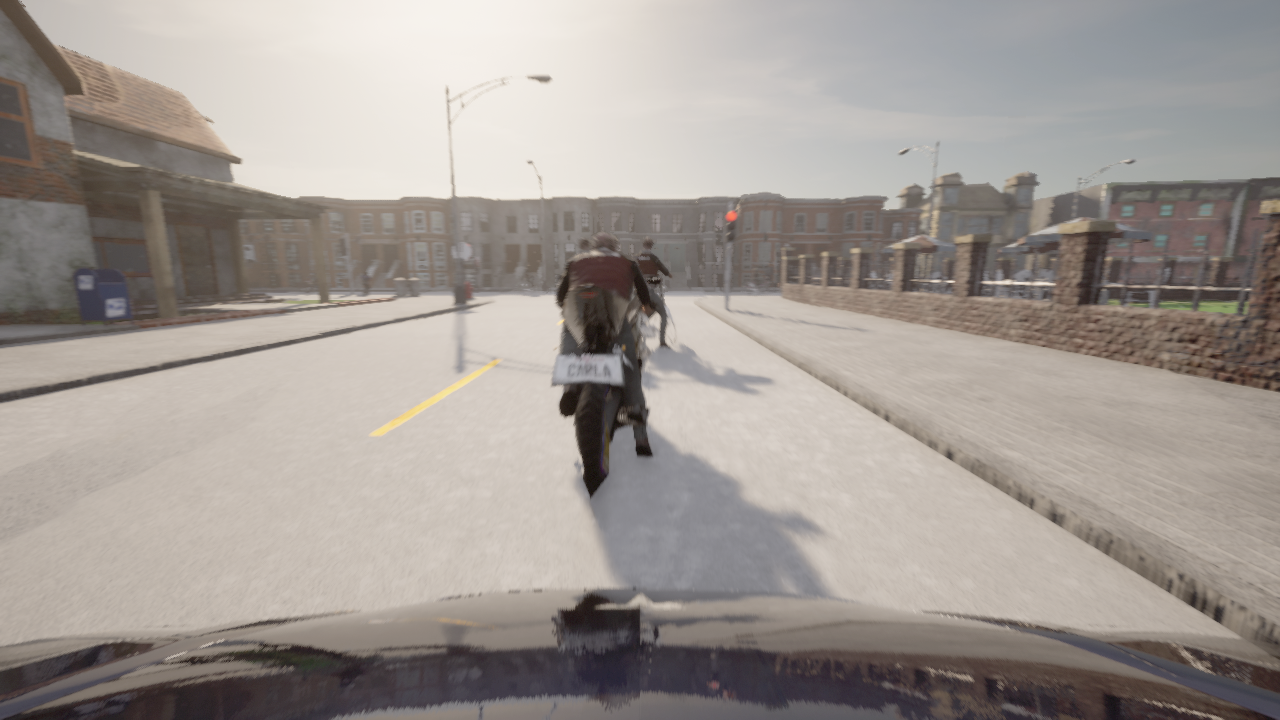cyclist: (0, 588, 1279, 719), (551, 275, 661, 499), (639, 276, 676, 342), (743, 277, 775, 294), (516, 277, 548, 294), (301, 277, 317, 291)
pedestrian: (360, 271, 371, 294), (764, 263, 773, 287), (778, 274, 781, 288)
